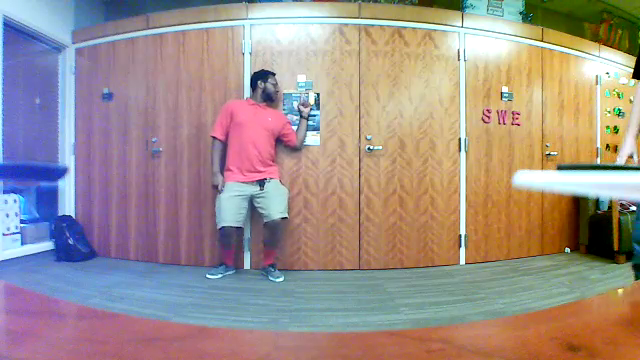up: (296, 90, 313, 120)
